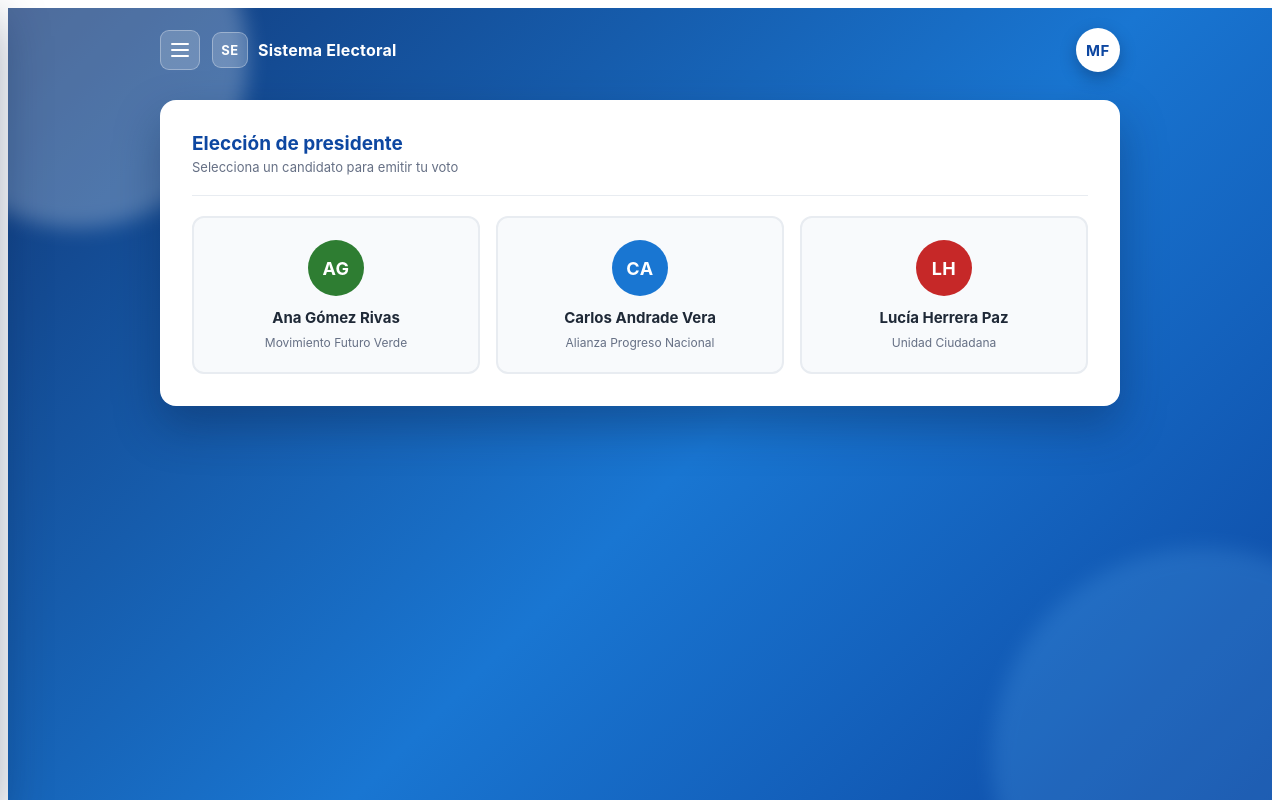
PageDatosVotanteComponent › should keep the dropdown closed until the avatar is clicked
This screenshot has width=1280, height=800.
Click the button with id "avatar-usuario": click(1098, 50) [1076,28,1120,72]
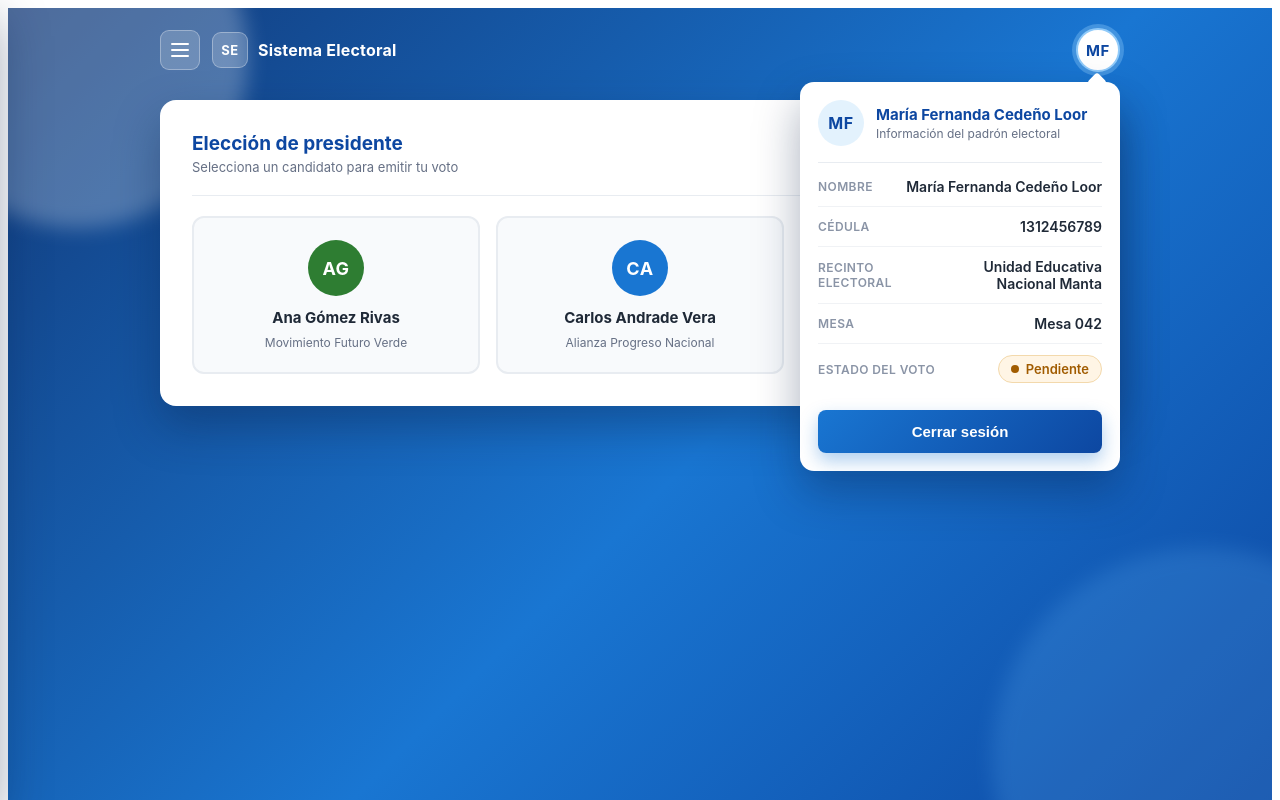
Now the menu with id "menu-usuario" is shown, box [800,82,1120,471]
